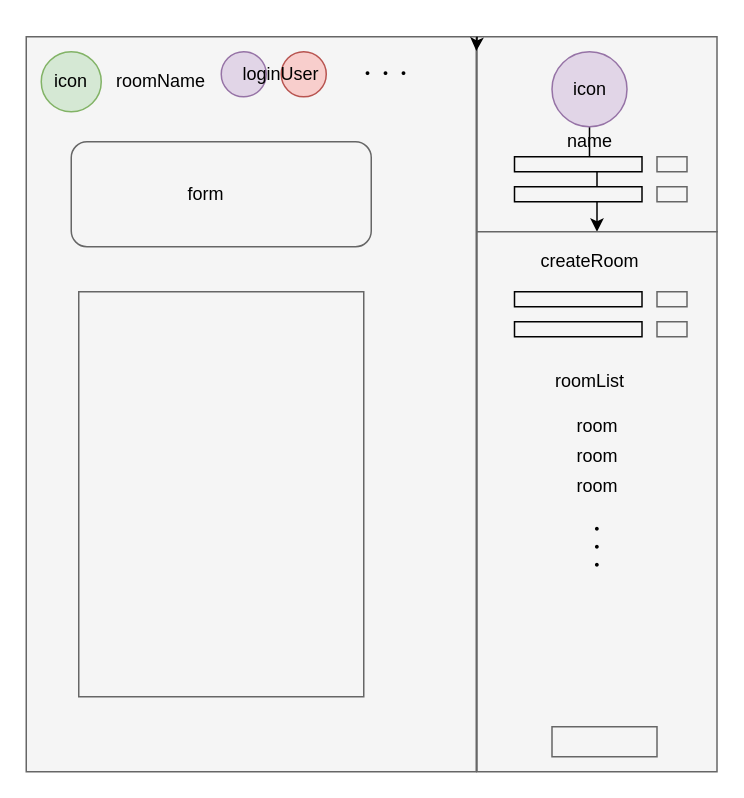
Image size: 744x798. Some labels were removed from this diagram. The shapes that lost their labels are listed below. From the top down, each one's centre as x and y in pixels, then its label:
point (220, 493): chat
point (603, 741): logout
